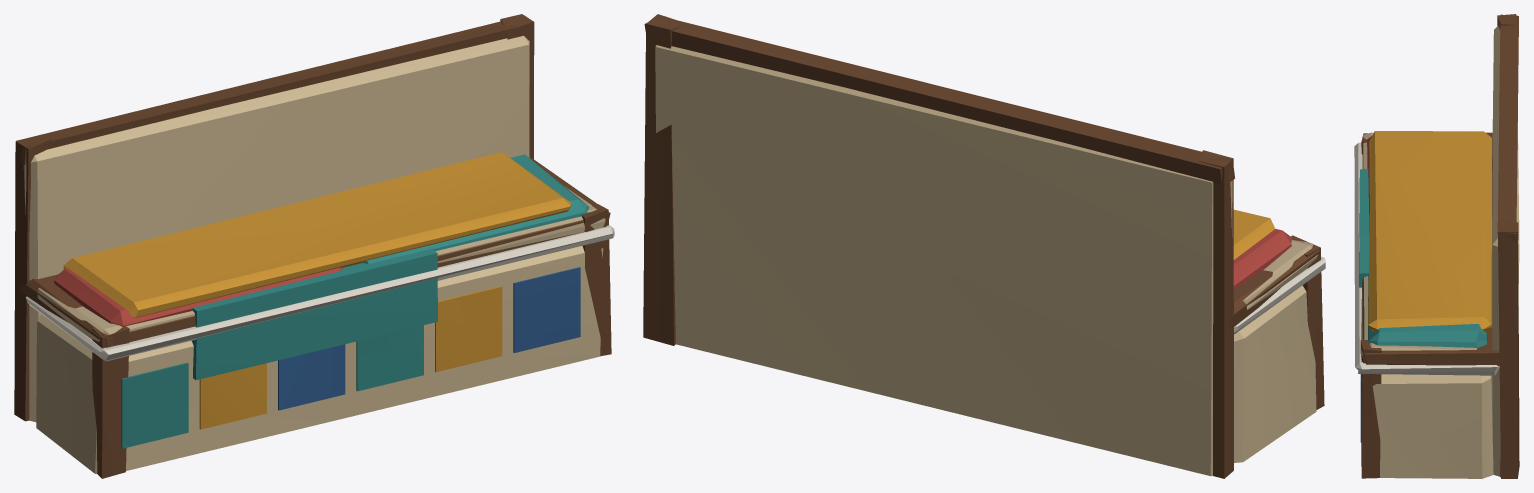
File: bench.glb
The picture shows the model from 3 angles, left to right: view 1: azimuth 30°, elevation 25°; view 2: azimuth 150°, elevation 25°; view 3: azimuth 270°, elevation 25°; orthographic projection. The views are drawn at different scales.
Visible parts, largest first — view 1: bench.v0.mesh, bench.v1.mesh, bench.v2.mesh; view 2: bench.v0.mesh, bench.v1.mesh, bench.v2.mesh; view 3: bench.v1.mesh, bench.v0.mesh, bench.v2.mesh.
Boxes of the visible parts, box(x1,y1,x2,y2) form: bench.v0.mesh: box(23, 35, 614, 473); bench.v1.mesh: box(14, 14, 611, 478); bench.v2.mesh: box(37, 187, 605, 380); bench.v0.mesh: box(655, 45, 1325, 476); bench.v1.mesh: box(643, 14, 1324, 478); bench.v2.mesh: box(1243, 240, 1317, 309); bench.v1.mesh: box(1360, 14, 1519, 478); bench.v0.mesh: box(1354, 26, 1519, 478); bench.v2.mesh: box(1359, 132, 1476, 359).
Bounding box in the file's own units: 1.71 × 0.8765 × 0.5325.
